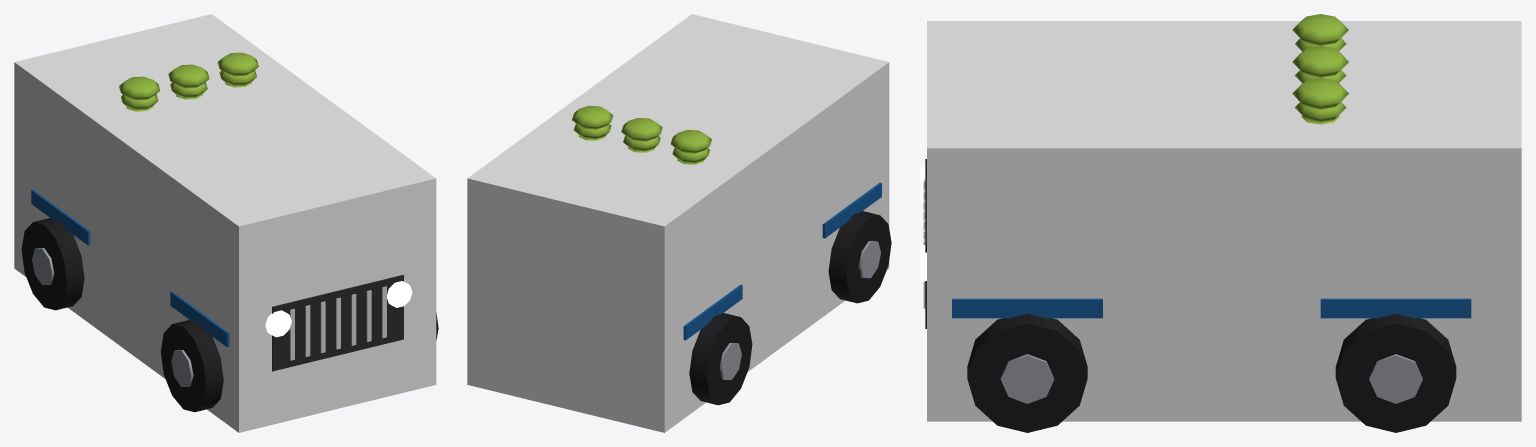
Rendered from yipao_azul.glb.
The picture shows the model from 3 angles, left to right: view 1: azimuth 30°, elevation 25°; view 2: azimuth 150°, elevation 25°; view 3: azimuth 270°, elevation 25°; orthographic projection. The views are drawn at different scales.
Parts seen in each view (by area): view 1: COL_0, yipao_azul_Malla; view 2: COL_0, yipao_azul_Malla; view 3: COL_0, yipao_azul_Malla.
Part boxes in pixels (bbox=[...]): COL_0: bbox=[14, 14, 436, 432]; yipao_azul_Malla: bbox=[21, 52, 438, 412]; COL_0: bbox=[467, 14, 889, 432]; yipao_azul_Malla: bbox=[572, 105, 891, 405]; COL_0: bbox=[927, 21, 1521, 421]; yipao_azul_Malla: bbox=[920, 14, 1471, 432].
Bounding box in the file's own units: 2.16 × 2.02 × 3.59.
